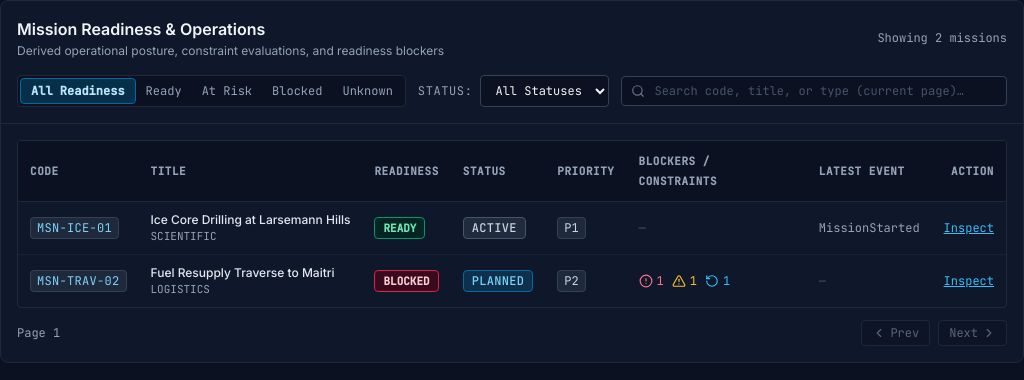
Test case: MissionReadinessGrid › filters missions on current page via client-side search
Expected: the text "MSN-ICE-01" is shown, [30,217,119,239]
Expected: the text "MSN-TRAV-02" is shown, [30,270,126,292]
Type "Larsemann" into the search field named "search current missions by code or title" at (814, 91), box [622,76,1007,106]
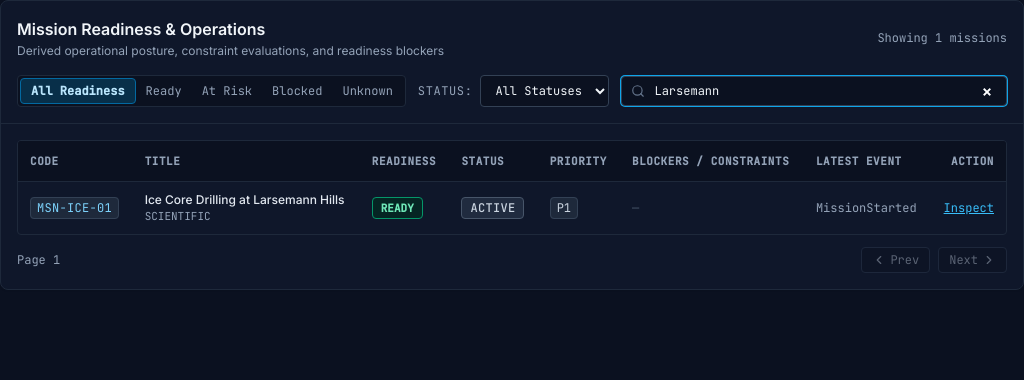
Expected: the text "MSN-ICE-01" is shown, [30,197,119,219]
Expected: the button "MSN-TRAV-02" is gone
